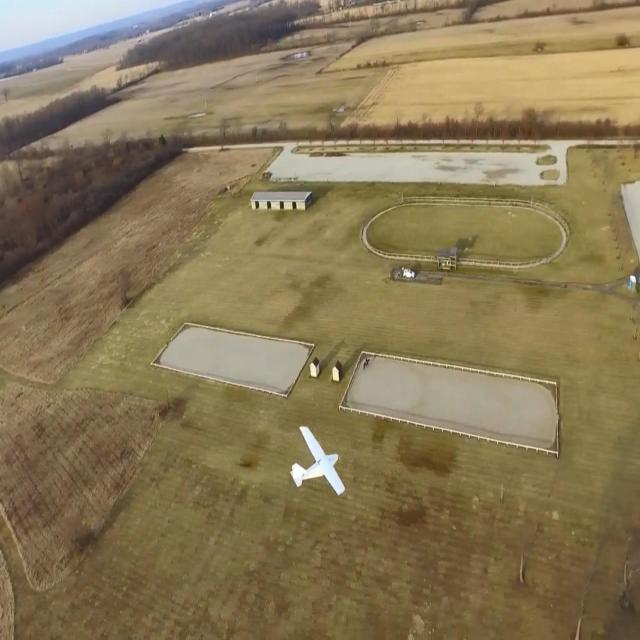iha: (319, 440, 334, 484)
